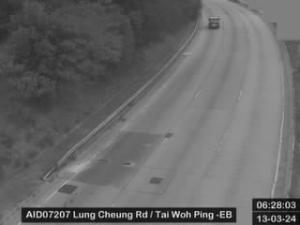vehicle: (207, 18, 223, 31)
